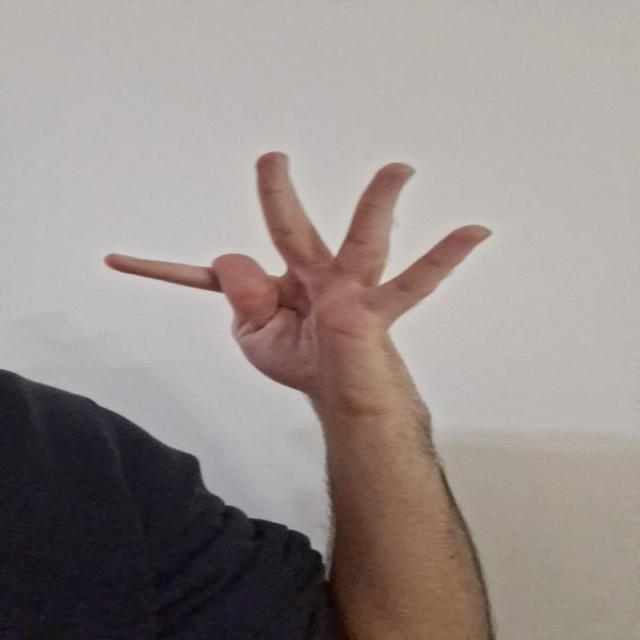T: (102, 145, 498, 380)
